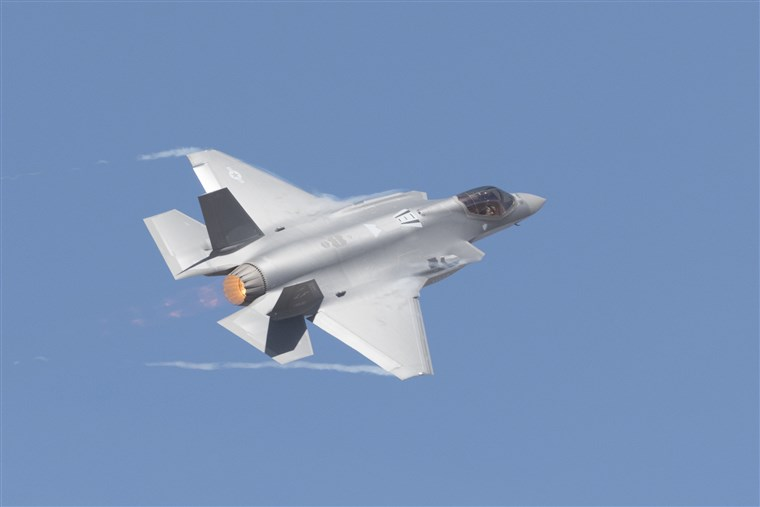F-35 Lightning: (133, 118, 586, 443)
